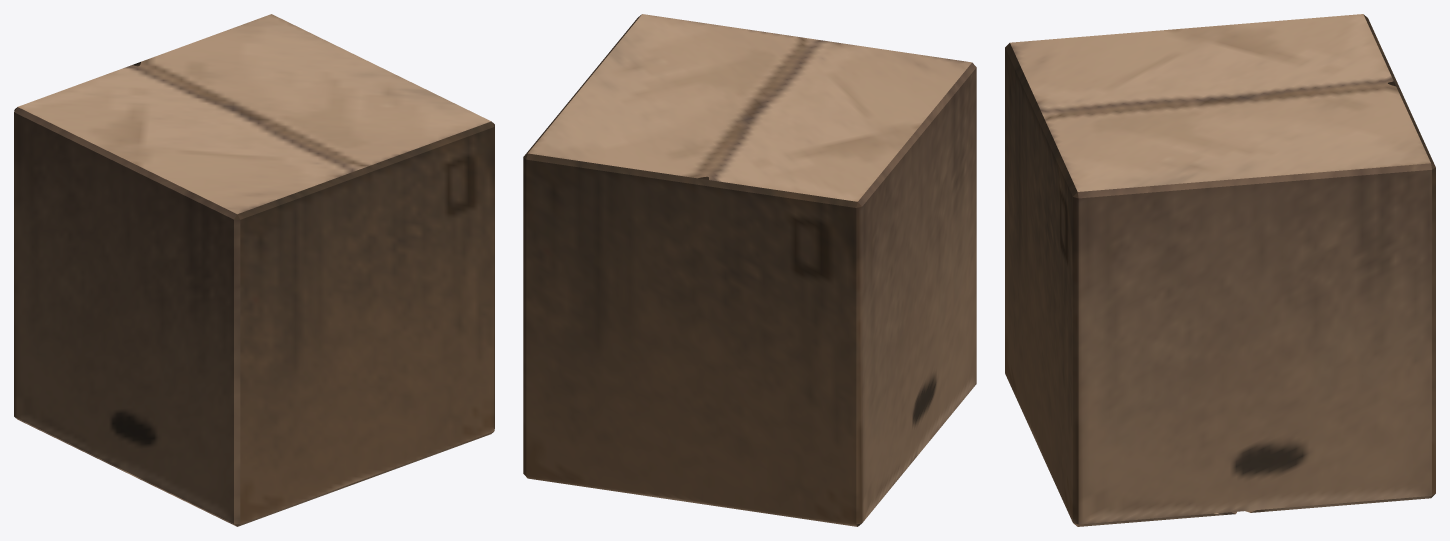
Rendered from PA_Cardboard_Box.fbx.
The picture shows the model from 3 angles, left to right: view 1: azimuth 30°, elevation 25°; view 2: azimuth 150°, elevation 25°; view 3: azimuth 270°, elevation 25°; orthographic projection. The views are drawn at different scales.
Parts seen in each view (by area): view 1: Cube; view 2: Cube; view 3: Cube.
Part boxes in pixels (x1,y1,x2,y2): Cube: [14, 14, 494, 526]; Cube: [523, 14, 976, 526]; Cube: [1005, 14, 1435, 526].
Size of the model in its own units: 0.3964 by 0.3401 by 0.3964.
